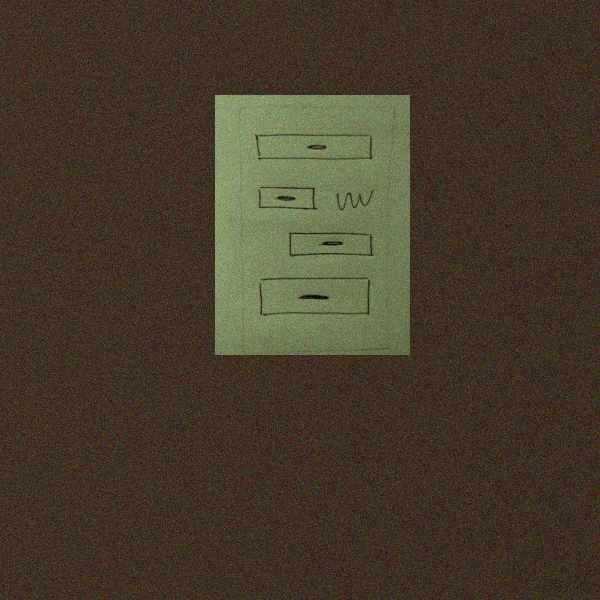button: (256, 275, 373, 321), (252, 129, 374, 164), (287, 229, 376, 262), (254, 182, 321, 215)
text: (333, 187, 376, 212)
